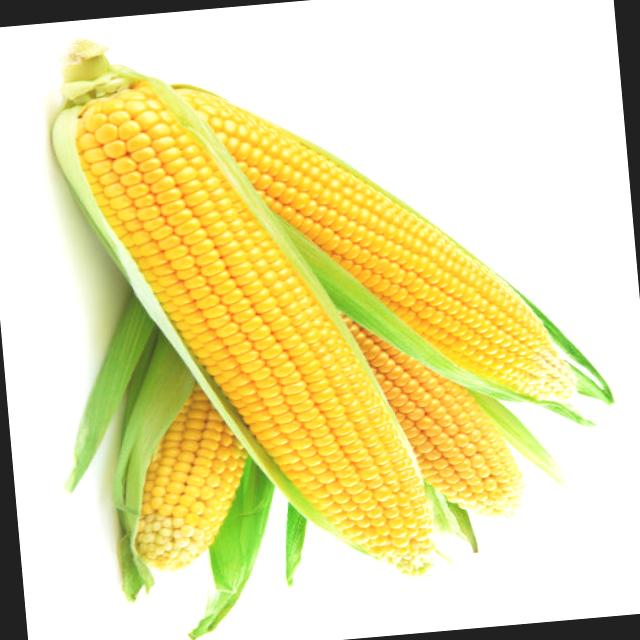corn: (58, 36, 432, 568), (173, 81, 576, 409)
